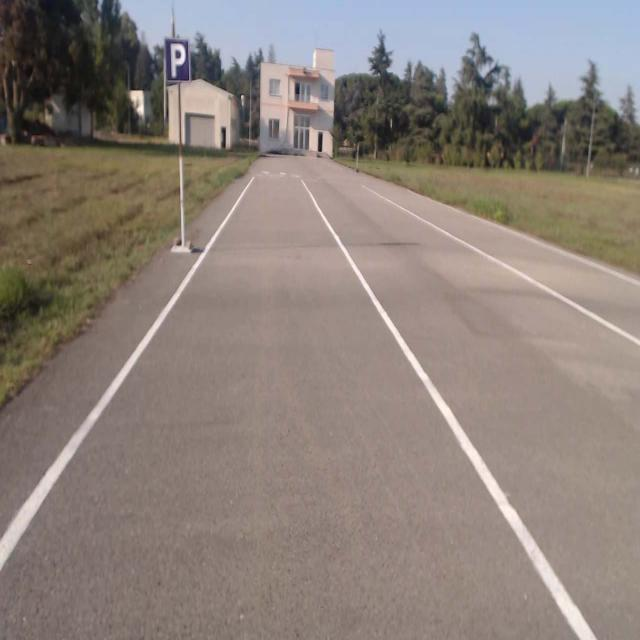park: (167, 41, 190, 82)
